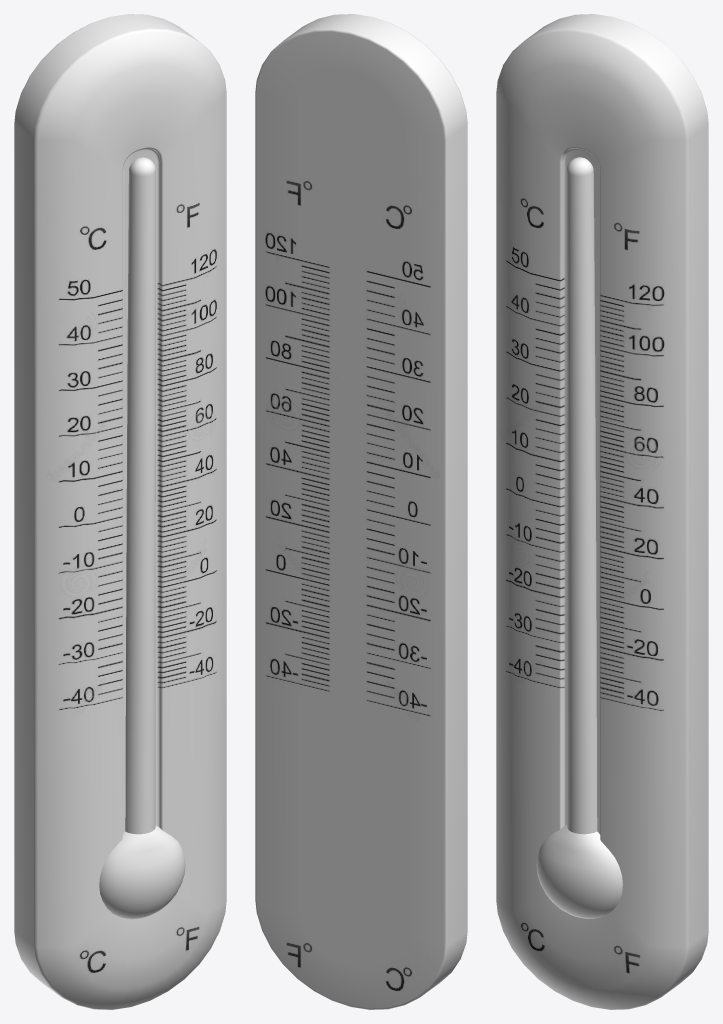
File: thermometer.glb
3 views of the same model, side by side, from view 1: azimuth 30°, elevation 25°; view 2: azimuth 150°, elevation 25°; view 3: azimuth 330°, elevation 25° (orthographic).
Visible parts, largest first — view 1: Cylinder.003, Sphere.002; view 2: Cylinder.003; view 3: Cylinder.003, Sphere.002.
Boxes of the visible parts, x1=… form: Cylinder.003: x1=14, y1=14, x2=226, y2=1009; Sphere.002: x1=99, y1=157, x2=185, y2=919; Cylinder.003: x1=255, y1=14, x2=467, y2=1009; Cylinder.003: x1=496, y1=14, x2=708, y2=1009; Sphere.002: x1=536, y1=157, x2=622, y2=918.
Bounding box in the file's own units: 0.1065 × 0.5165 × 0.0429.
Materials: 3 (1 with a texture image).
